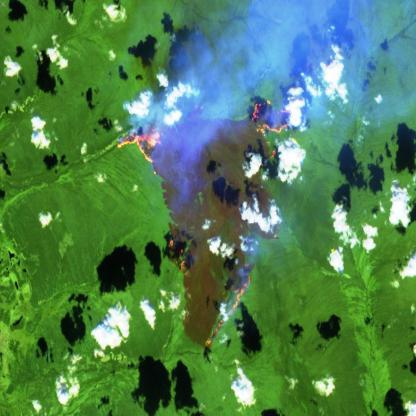fire: (201, 269, 255, 353), (246, 95, 306, 161), (110, 122, 167, 167), (160, 232, 197, 273)
